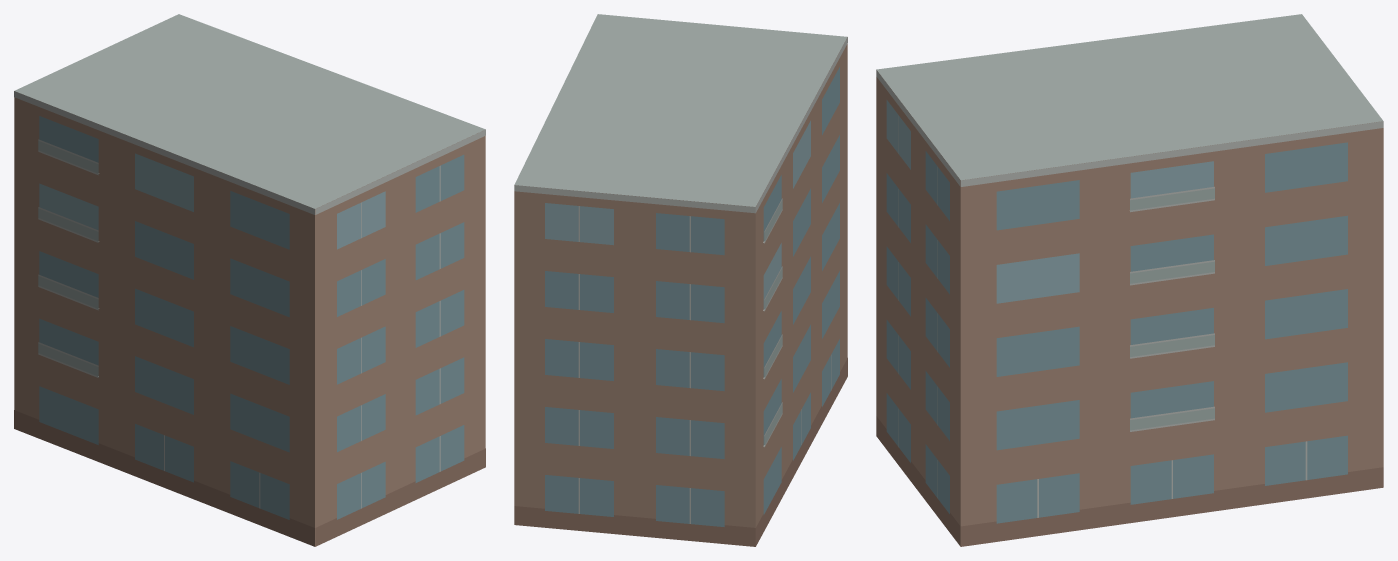
The model's file is survey-upis-33007629.glb.
3 renders of one model, left to right at view 1: azimuth 30°, elevation 25°; view 2: azimuth 150°, elevation 25°; view 3: azimuth 270°, elevation 25°, orthographic. The views are drawn at different scales.
Parts seen in each view (by area): view 1: survey-upis-33007629.tmp; view 2: survey-upis-33007629.tmp; view 3: survey-upis-33007629.tmp.
Boxes of the visible parts, left/top/right/bottom form: survey-upis-33007629.tmp: left=14, top=14, right=485, bottom=546; survey-upis-33007629.tmp: left=514, top=14, right=847, bottom=546; survey-upis-33007629.tmp: left=876, top=14, right=1383, bottom=546.
Size of the model in its own units: 12.86 by 13.2 by 16.57.
